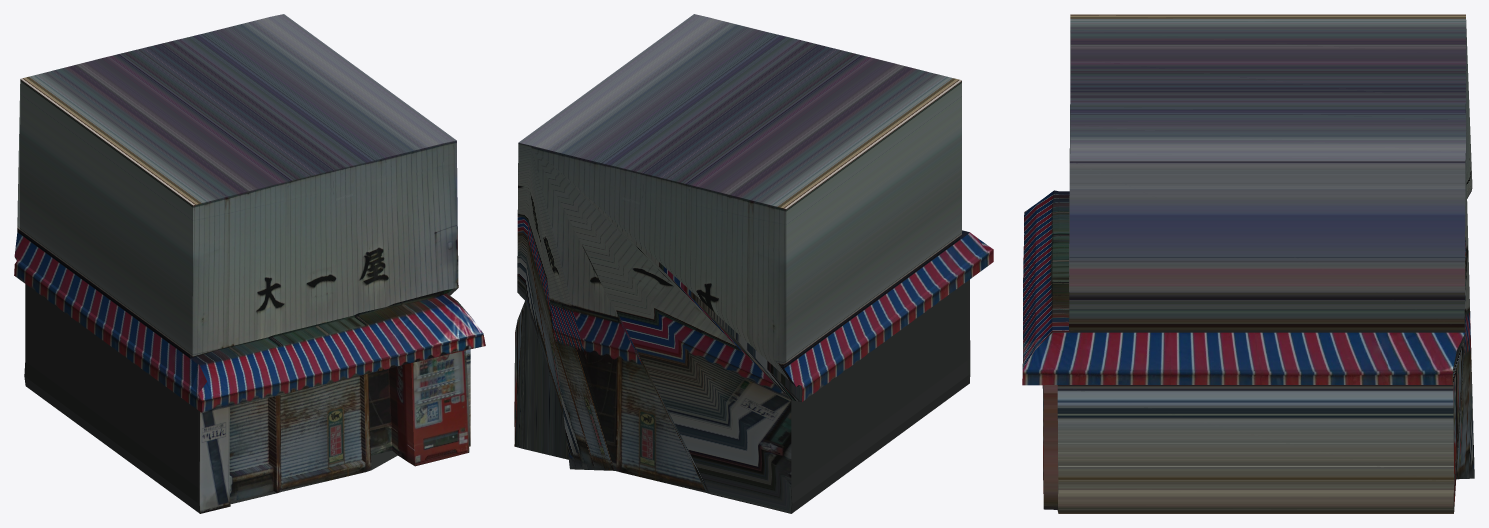
File: SmallShop 1.fbx
3 renders of one model, left to right at view 1: azimuth 30°, elevation 25°; view 2: azimuth 150°, elevation 25°; view 3: azimuth 270°, elevation 25°, orthographic. The views are drawn at different scales.
Parts seen in each view (by area): view 1: SmallShop, SmallShop.001, SmallShop.002; view 2: SmallShop.001, SmallShop, SmallShop.002; view 3: SmallShop.001, SmallShop, SmallShop.002.
Part boxes in pixels (box(x1,y1,x2,y2)): SmallShop: box(17, 14, 485, 513); SmallShop.001: box(15, 79, 470, 513); SmallShop.002: box(14, 232, 206, 412); SmallShop.001: box(514, 80, 970, 513); SmallShop: box(519, 14, 993, 368); SmallShop.002: box(784, 232, 993, 401); SmallShop.001: box(1043, 20, 1474, 513); SmallShop: box(1022, 14, 1466, 493); SmallShop.002: box(1022, 332, 1464, 385).
Bounding box in the file's own units: 777 × 800 × 938.
